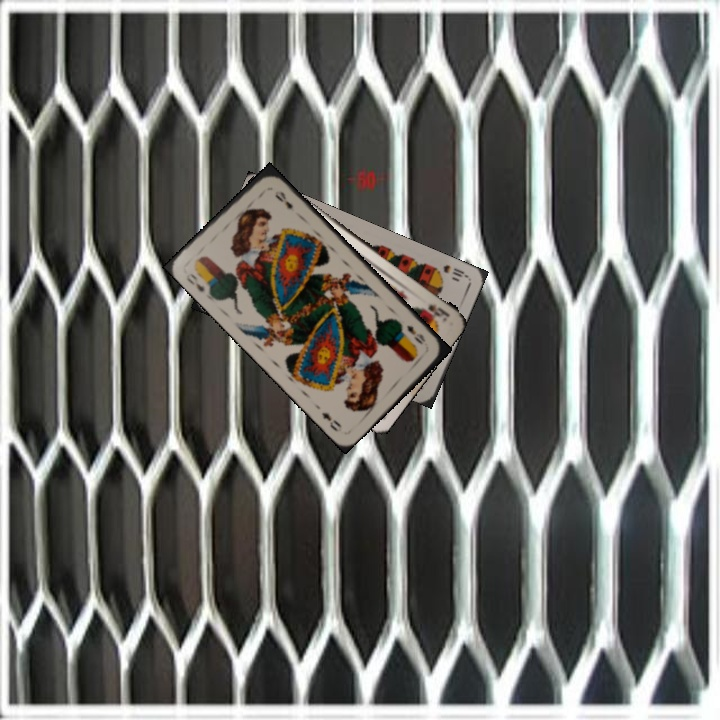EO: (403, 321, 428, 347), (182, 269, 207, 295)
S10: (429, 261, 469, 280)
SK: (418, 300, 453, 324)
